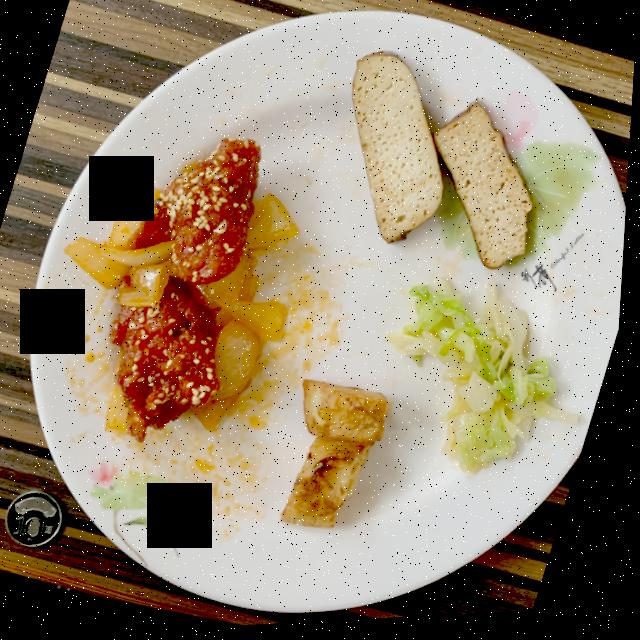cabbage: (391, 283, 583, 477)
coin: (12, 490, 69, 546)
firm tofu: (353, 54, 535, 274)
fried potato: (287, 381, 393, 531)
